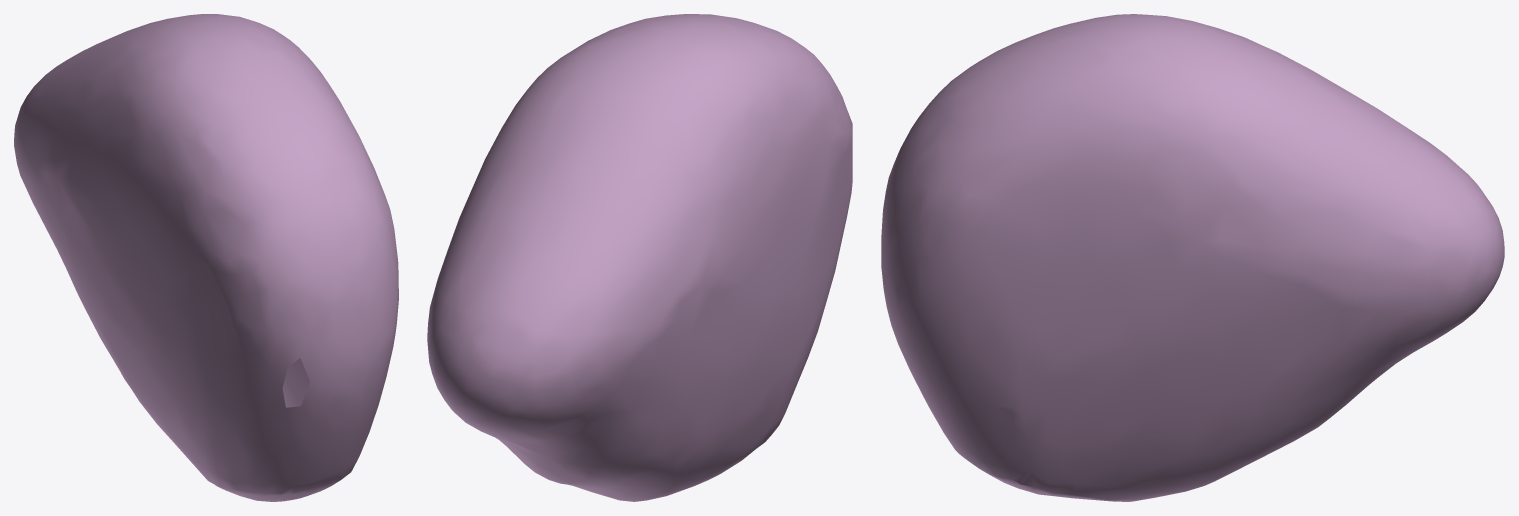
3 views of the same model, side by side, from view 1: azimuth 30°, elevation 25°; view 2: azimuth 150°, elevation 25°; view 3: azimuth 270°, elevation 25° (orthographic). The views are drawn at different scales.
Parts seen in each view (by area): view 1: 山顶; view 2: 山顶; view 3: 山顶.
Part boxes in pixels (<box>): 山顶: <box>14,14,398,501</box>; 山顶: <box>427,14,852,501</box>; 山顶: <box>881,14,1504,501</box>.
Bounding box in the file's own units: 0.0153 × 0.0284 × 0.0352.
